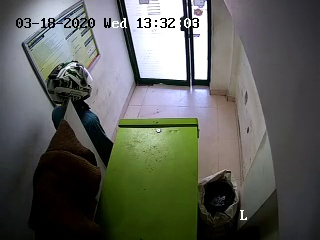helmet: (45, 59, 96, 108)
